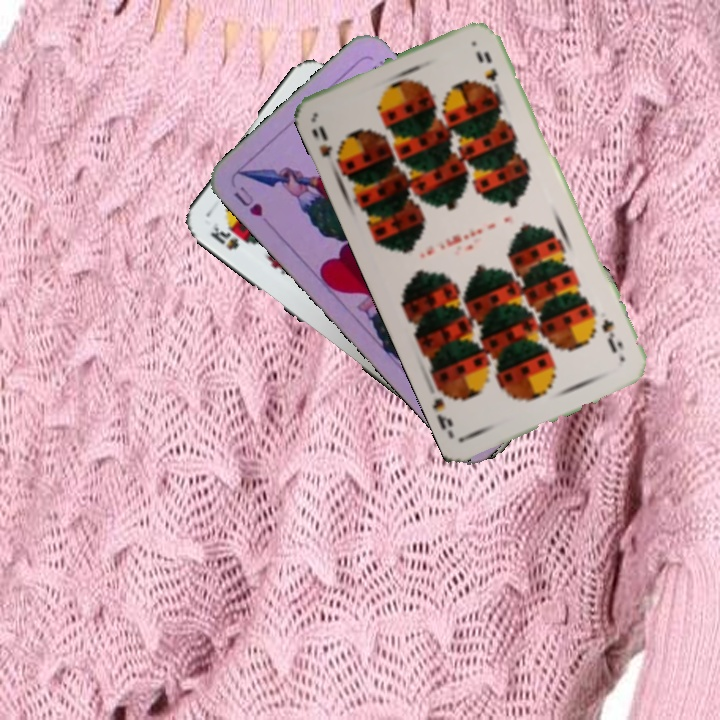HU: (229, 182, 266, 219)
S9: (314, 122, 348, 171), (598, 314, 626, 357)
SK: (206, 218, 242, 253)
